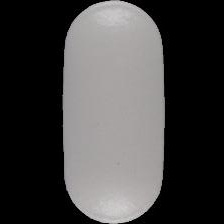52959-516: (0, 0, 224, 224)
